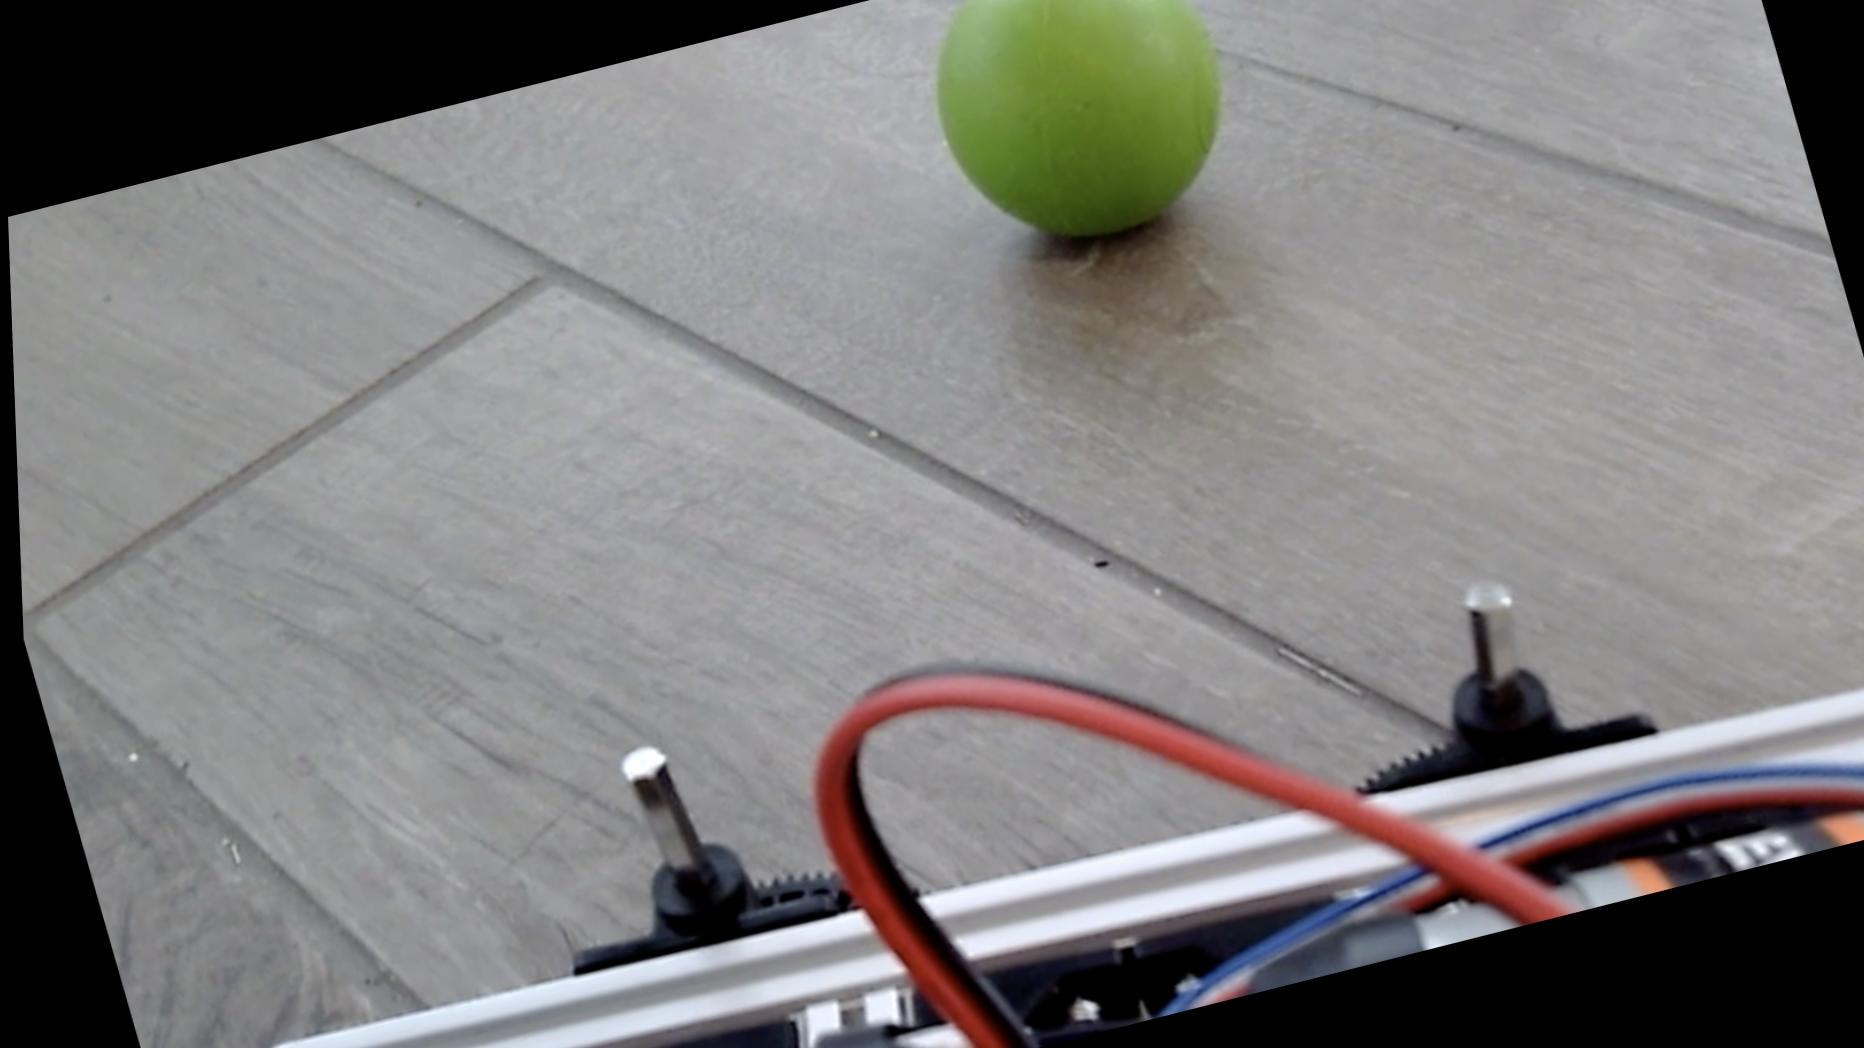greenball: (899, 0, 1258, 269)
